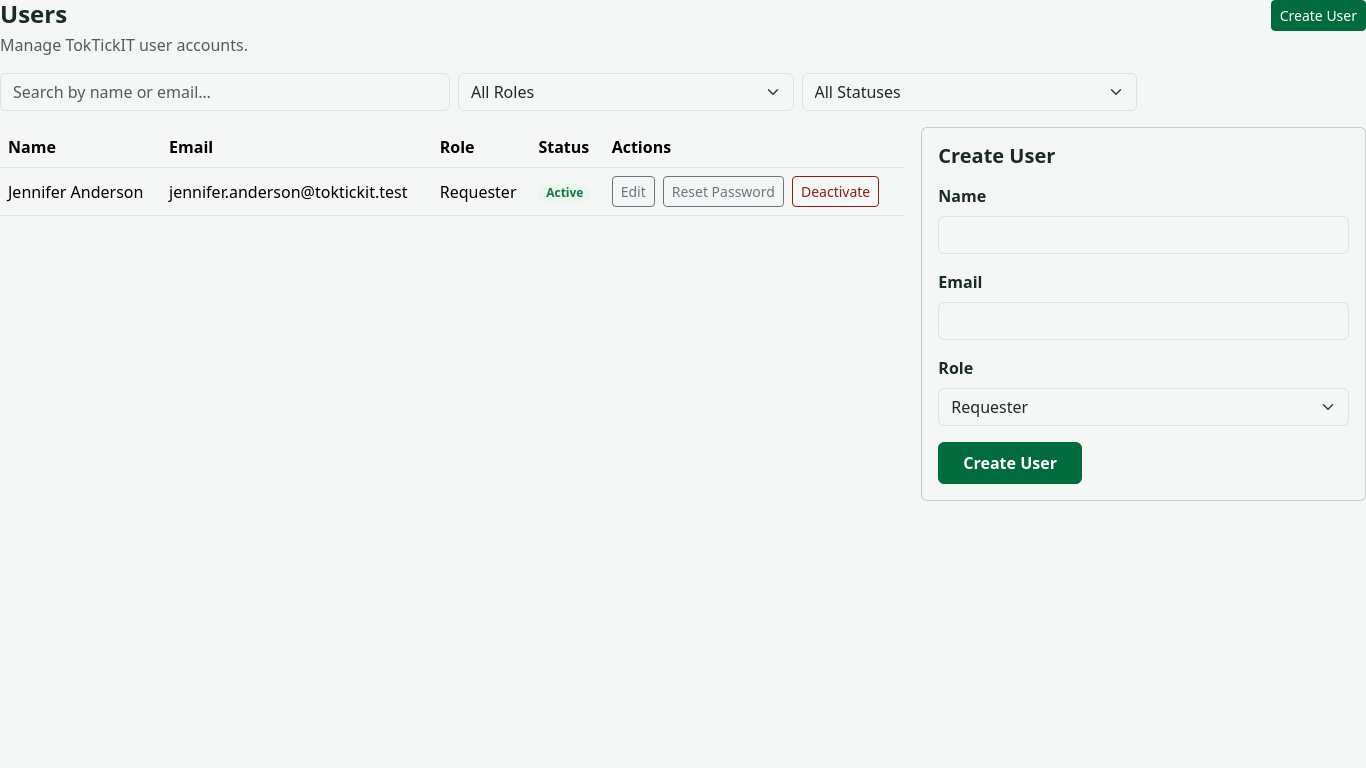
Test: UserManagement › requires confirmation before deactivating, and the confirmation mentions ending sessions (UI-L3-11)
The image size is (1366, 768).
Expected: the text "Jennifer Anderson" is shown, [0,167,161,216]
What coordinates should you click on to do the following:
click the button "Deactivate"
I would click on:
 (836, 191)
Its box is [792,176,879,207].
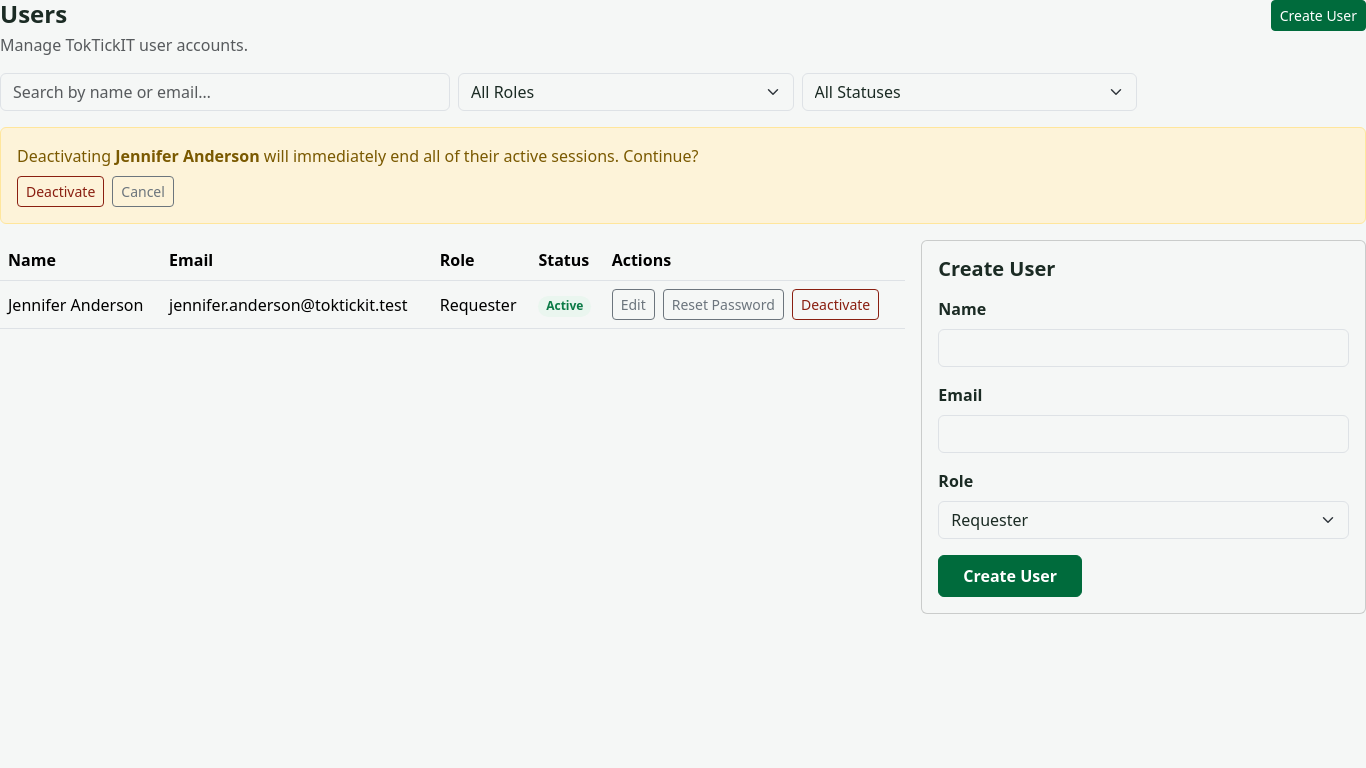
Expected: the dialog shows "end all of their active sessions", [260,145,698,167]
Expected: the number of buttons "Deactivate" is 2, [17,176,104,207]; [792,289,879,320]
